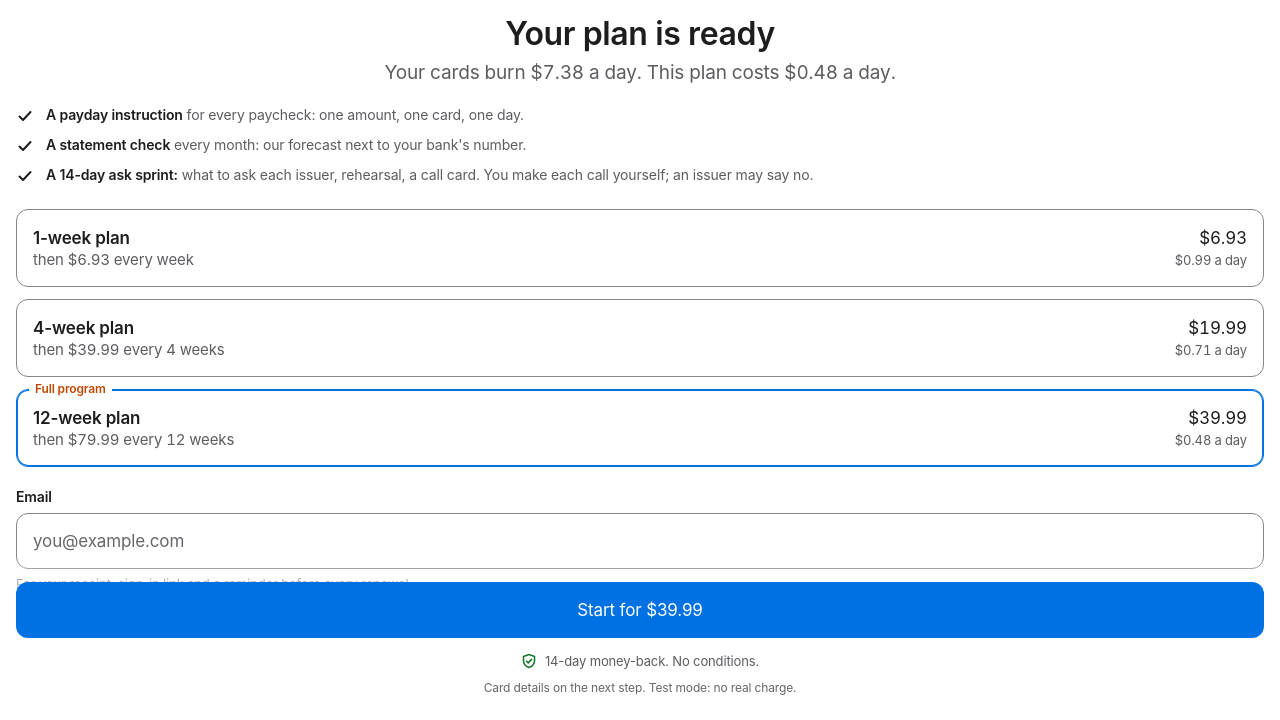
Test: PaywallForm › words a one-week plan correctly
Click the radio button labelled "1-week plan $6.93 $0.99 a day then $6.93 every week": (81,238) [16,209,1264,287]
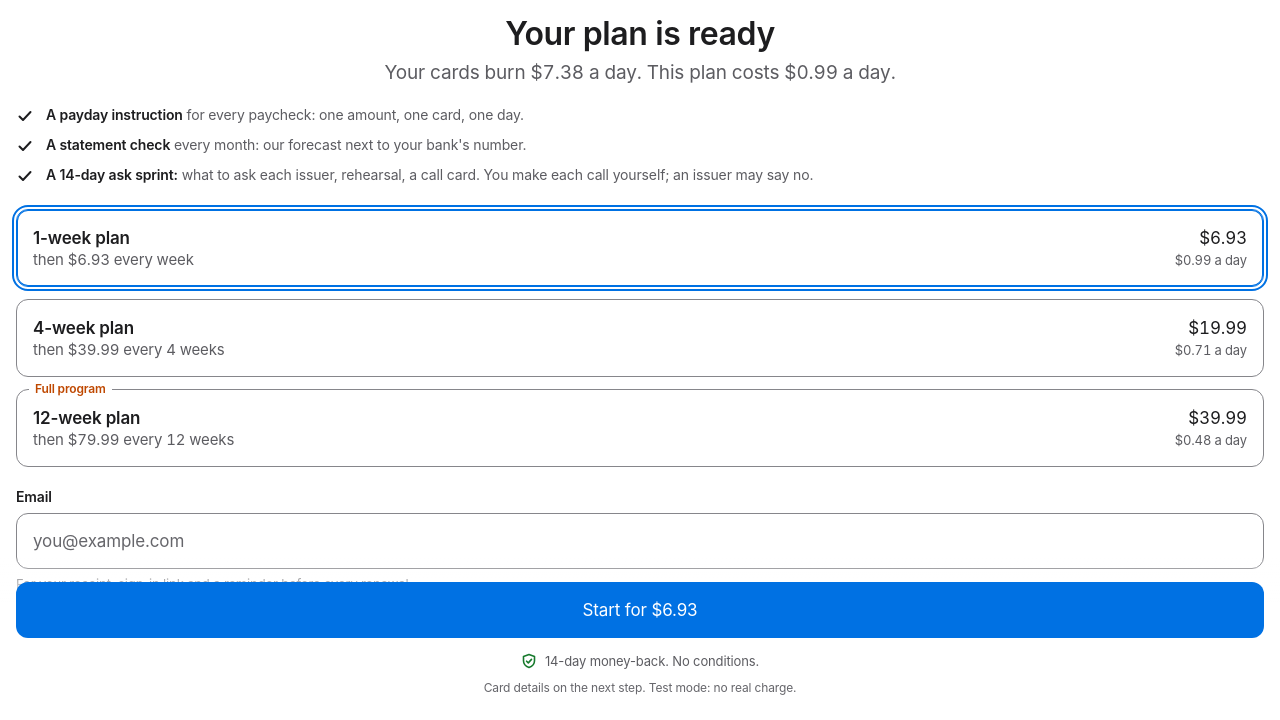
Expected: the element with test id "plan-consent-text" shows "after the first week for $6.93 the plan renews automatically at $6.93 every week", [46,614,1020,631]
